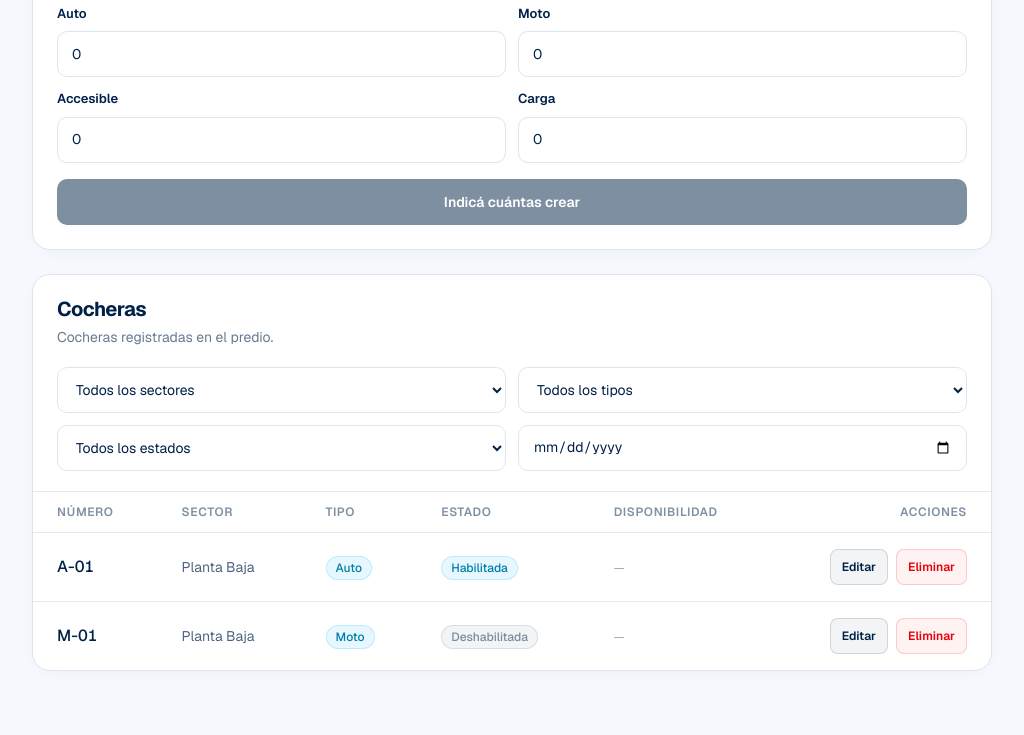
Test: CocherasManagement › combina tipo y estado sin sector y recupera todas las cocheras al limpiar filtros
This screenshot has width=1024, height=735.
(page scrolled)
Check: the text "A-01" is shown, box top-left (33, 532), bottom-right (158, 601)
Select "Deshabilitada" in the 3rd dropdown showing "Todos los estados" at [282, 448], box top-left (57, 424), bottom-right (506, 470)
(page scrolled)
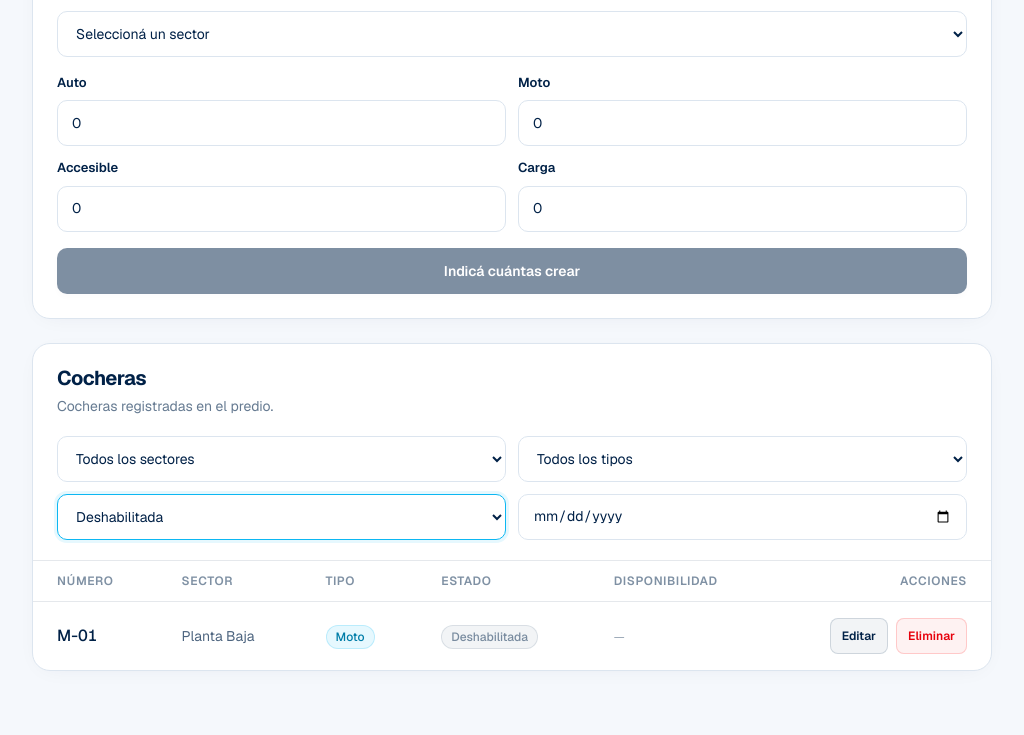
Select "Moto" in the 2nd dropdown showing "Todos los tipos" at [742, 458], box top-left (518, 436), bottom-right (967, 482)
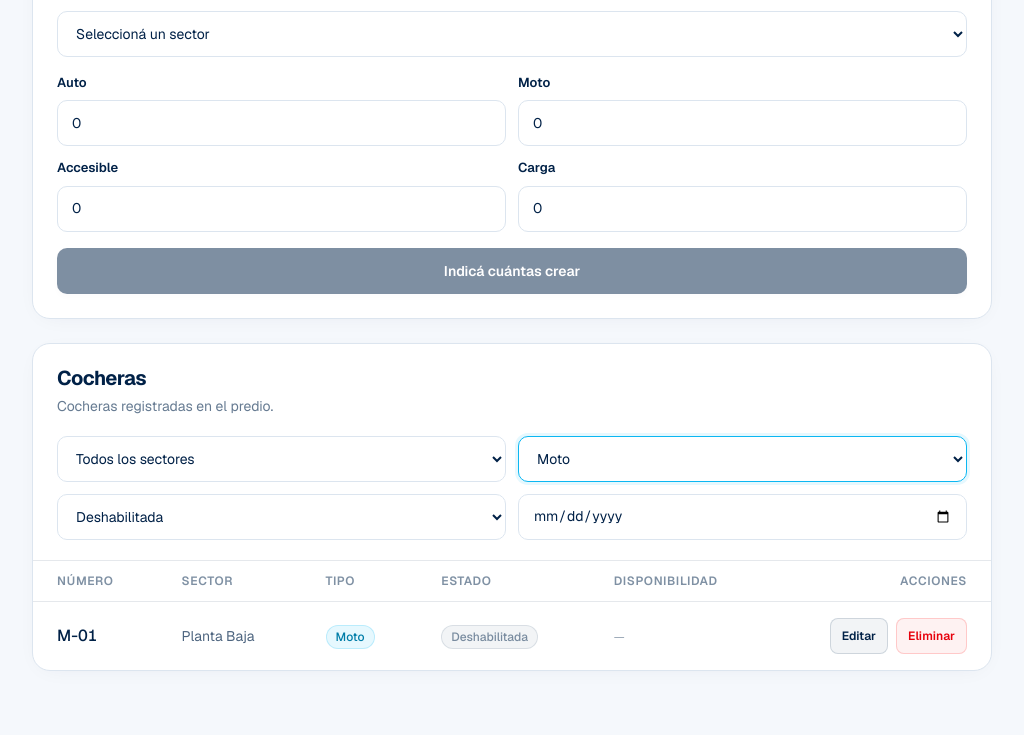
Check: the text "A-01" is not shown
Select "Todos los tipos" in the 2nd dropdown showing "Todos los tipos" at [742, 458], box top-left (518, 436), bottom-right (967, 482)
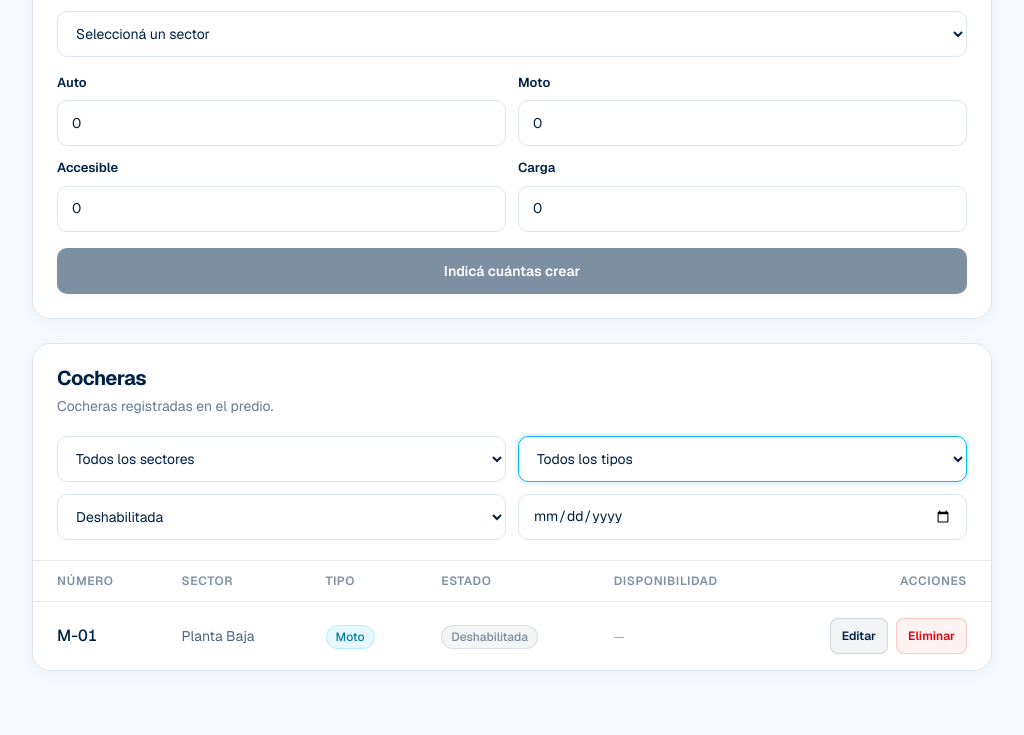
Select "Todos los estados" in the 3rd dropdown showing "Todos los estados" at [282, 516], box top-left (57, 494), bottom-right (506, 540)
(page scrolled)
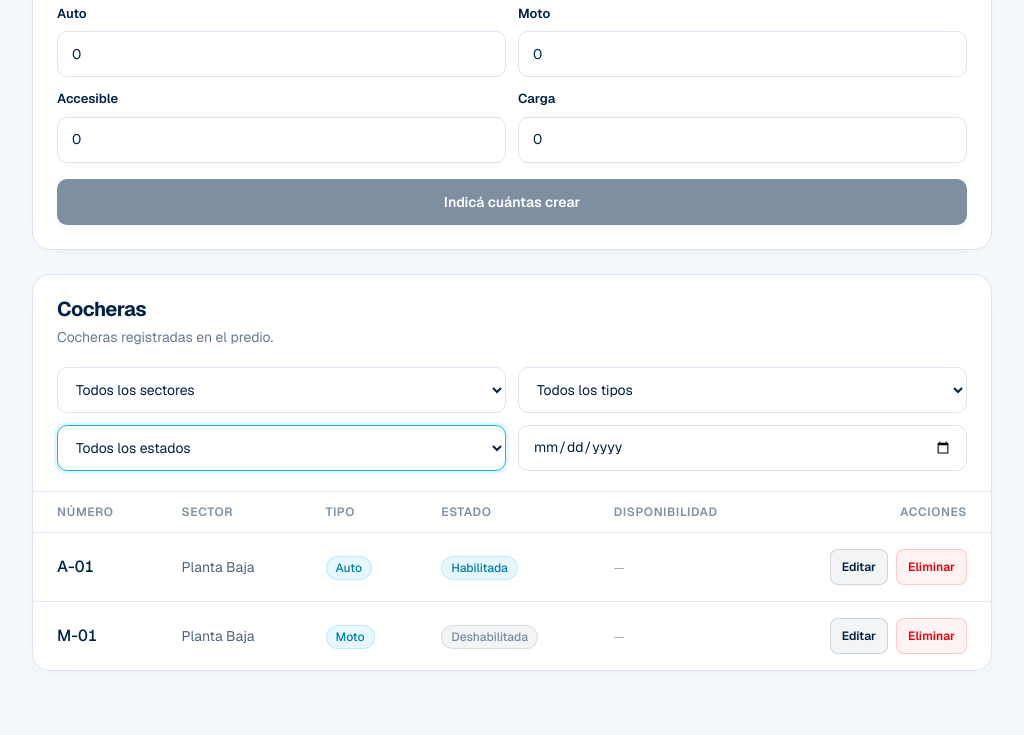
Check: the text "M-01" is shown, box top-left (33, 601), bottom-right (158, 670)
Check: the text "A-01" is shown, box top-left (33, 532), bottom-right (158, 601)
